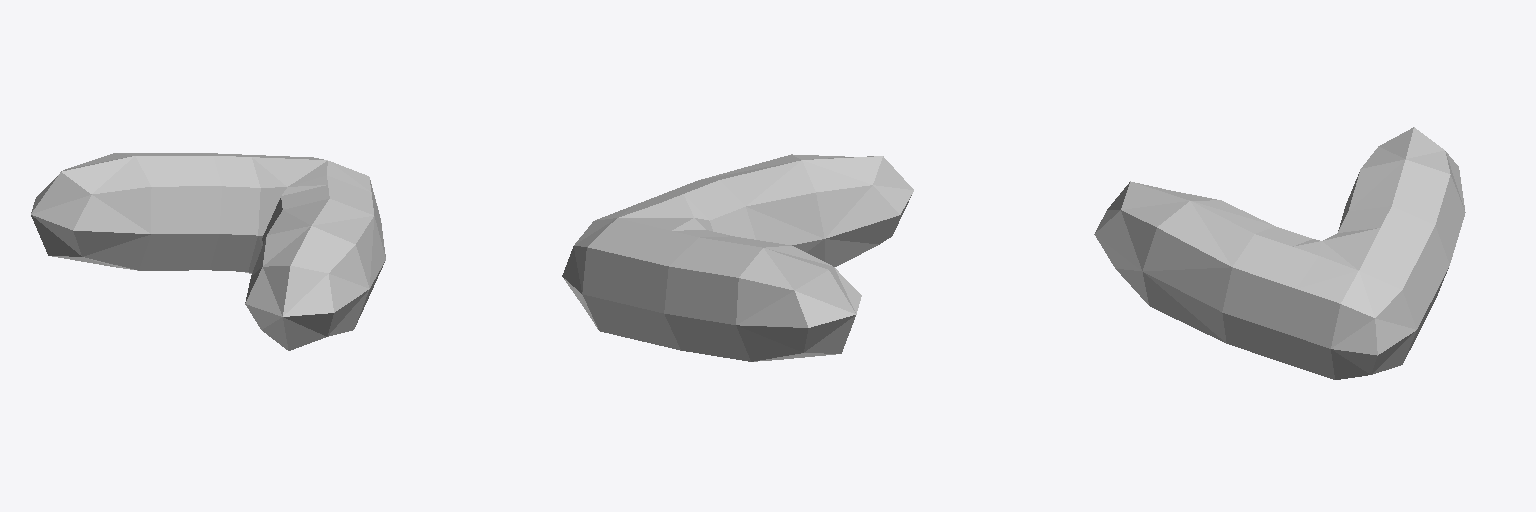
File: max_transformed_skin_lefthanded_5.obj
3 views of the same model, side by side, from view 1: azimuth 30°, elevation 25°; view 2: azimuth 150°, elevation 25°; view 3: azimuth 270°, elevation 25° (orthographic).
Visible parts, largest first — view 1: Box001; view 2: Box001; view 3: Box001.
Boxes of the visible parts, x1,y1,x2,y2 form: Box001: [31, 153, 385, 350]; Box001: [562, 154, 913, 361]; Box001: [1094, 127, 1465, 379].
Size of the model in its own units: 60.02 by 25 by 61.48.